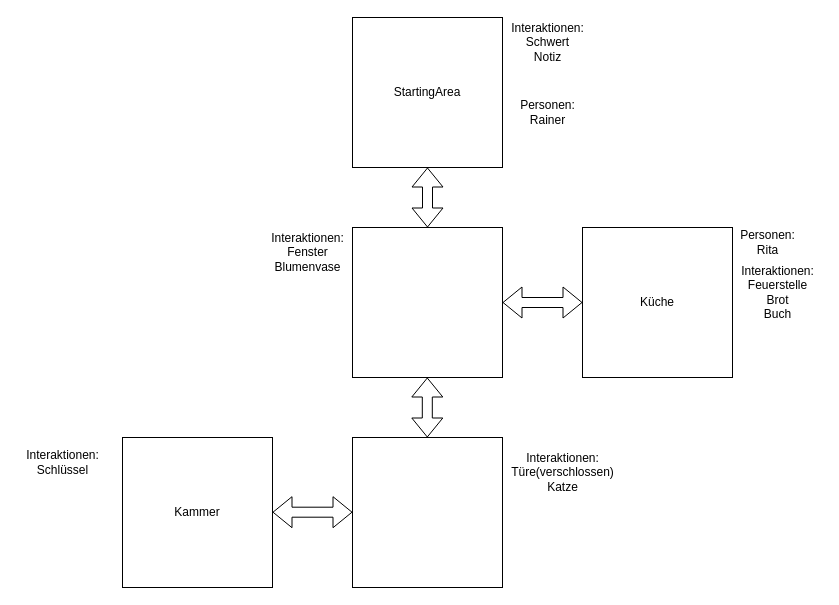
The diagram is 839 pixels wide and 605 high, and some of its shapes have lost their labels. The shapes that lost their labels are listed below. From the top down, each one's centre as x and y in pixels, then its label:
the point at 427,302: Gang
the point at 427,512: InnenHof
